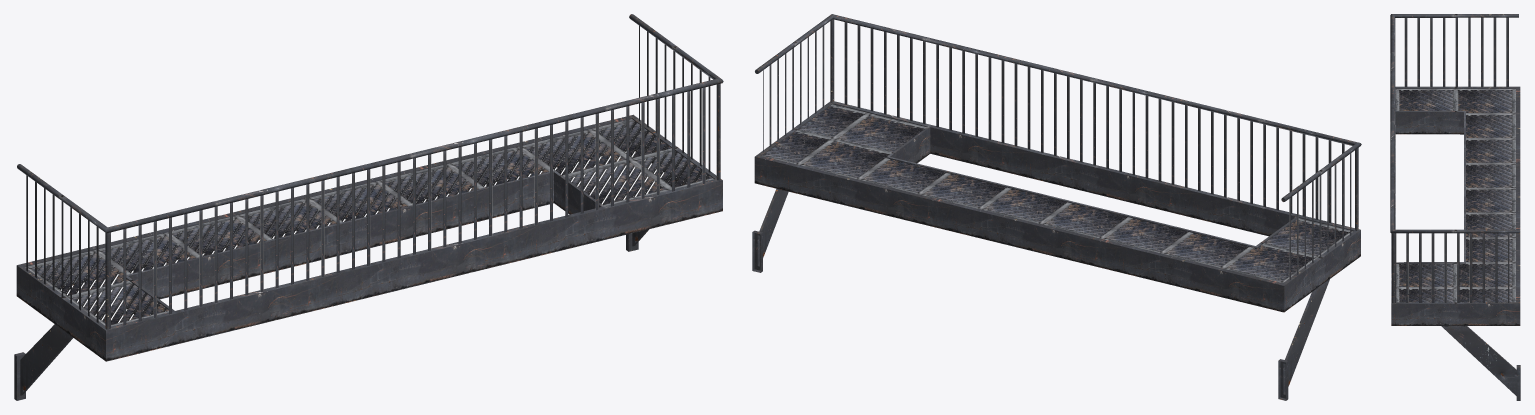
Rendered from BUILDING_exteriorStairwell_01LOD1.FBX.
3 views of the same model, side by side, from view 1: azimuth 30°, elevation 25°; view 2: azimuth 150°, elevation 25°; view 3: azimuth 270°, elevation 25° (orthographic). The views are drawn at different scales.
Visible parts, largest first — view 1: BUILDING_exteriorStairwell_01_baseLOD1, BUILDING_exteriorStairwell_01_floorLOD1, BUILDING_exteriorStairwell_01_metalBarsLOD1; view 2: BUILDING_exteriorStairwell_01_baseLOD1, BUILDING_exteriorStairwell_01_floorLOD1, BUILDING_exteriorStairwell_01_metalBarsLOD1; view 3: BUILDING_exteriorStairwell_01_floorLOD1, BUILDING_exteriorStairwell_01_baseLOD1, BUILDING_exteriorStairwell_01_metalBarsLOD1.
Part boxes in pixels (x1,y1,x2,y2): BUILDING_exteriorStairwell_01_baseLOD1: (14,14,723,400); BUILDING_exteriorStairwell_01_floorLOD1: (25,119,713,326); BUILDING_exteriorStairwell_01_metalBarsLOD1: (26,25,717,328); BUILDING_exteriorStairwell_01_baseLOD1: (752,14,1361,400); BUILDING_exteriorStairwell_01_floorLOD1: (762,104,1353,282); BUILDING_exteriorStairwell_01_metalBarsLOD1: (763,20,1357,280); BUILDING_exteriorStairwell_01_floorLOD1: (1395,89,1515,302); BUILDING_exteriorStairwell_01_baseLOD1: (1390,14,1520,400); BUILDING_exteriorStairwell_01_metalBarsLOD1: (1395,17,1509,302).
Bounding box in the file's own units: 637 × 230 × 160.
Materials: 3 (3 with a texture image).
